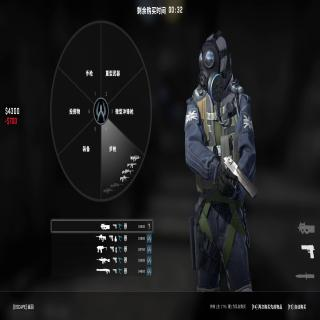CT-Body: (183, 32, 260, 291)
CT-Head: (198, 32, 228, 90)
